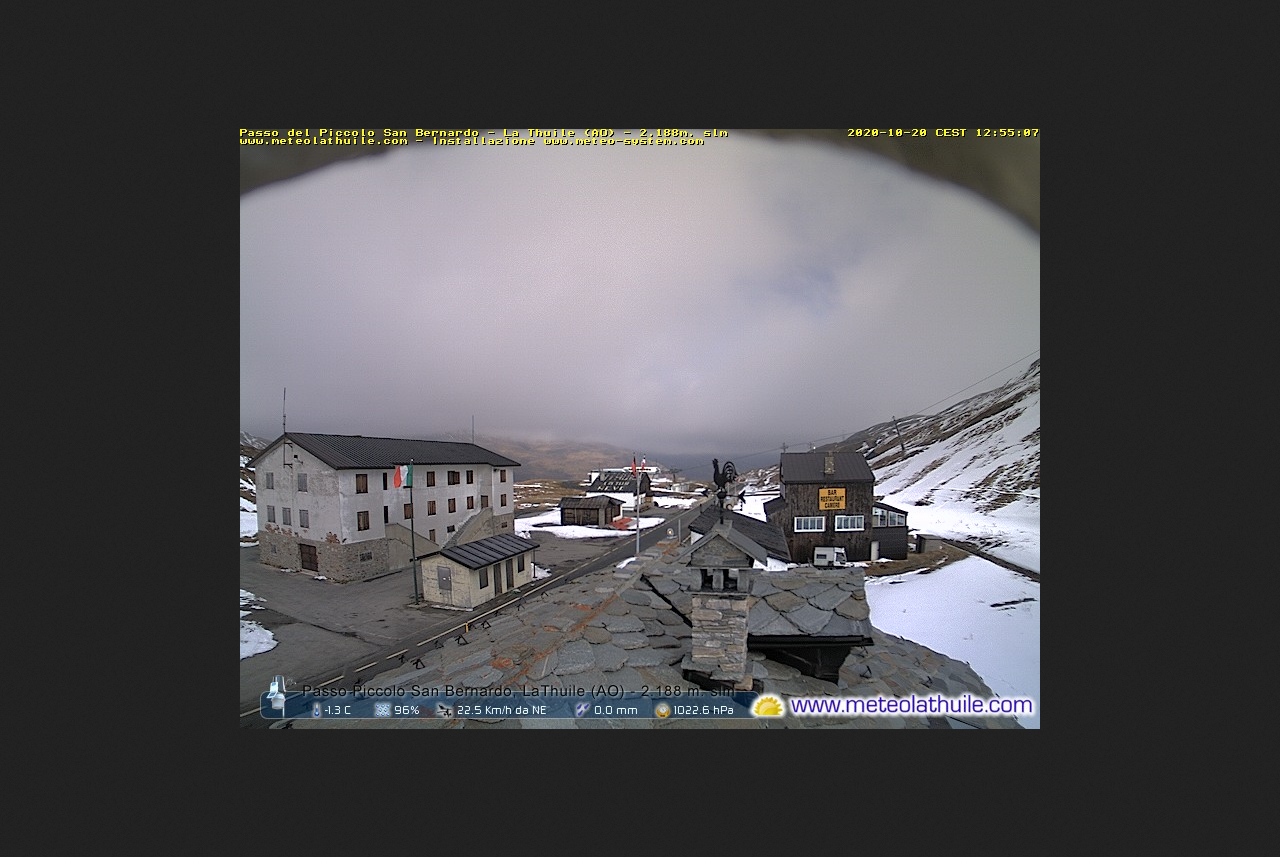yes: (388, 462, 414, 491)
